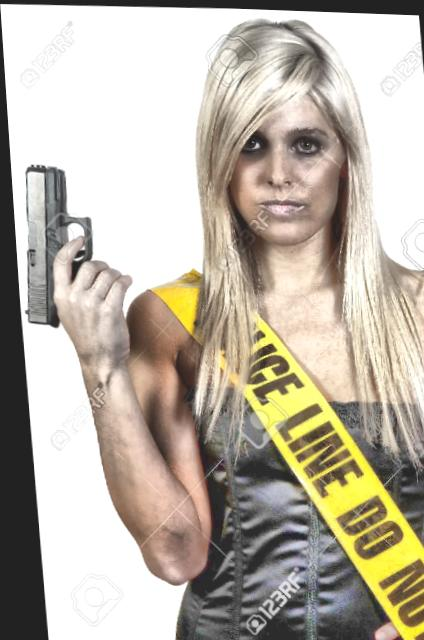pistol: (8, 157, 108, 328)
